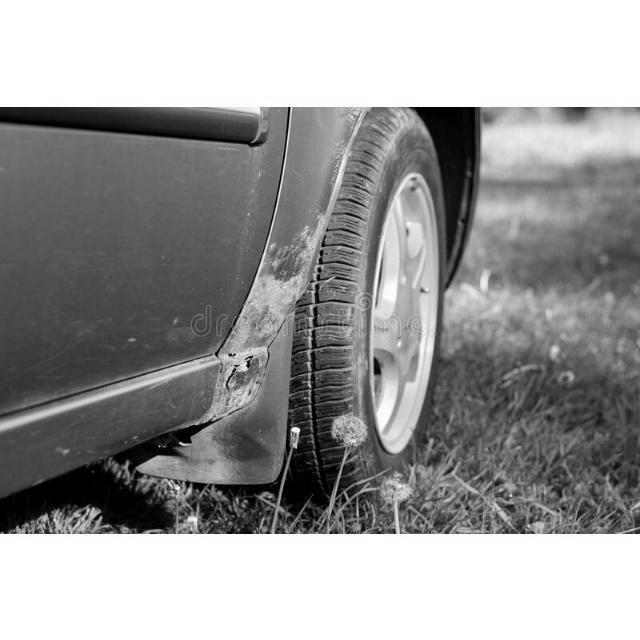quaterpanel-dent: (268, 109, 404, 448)
